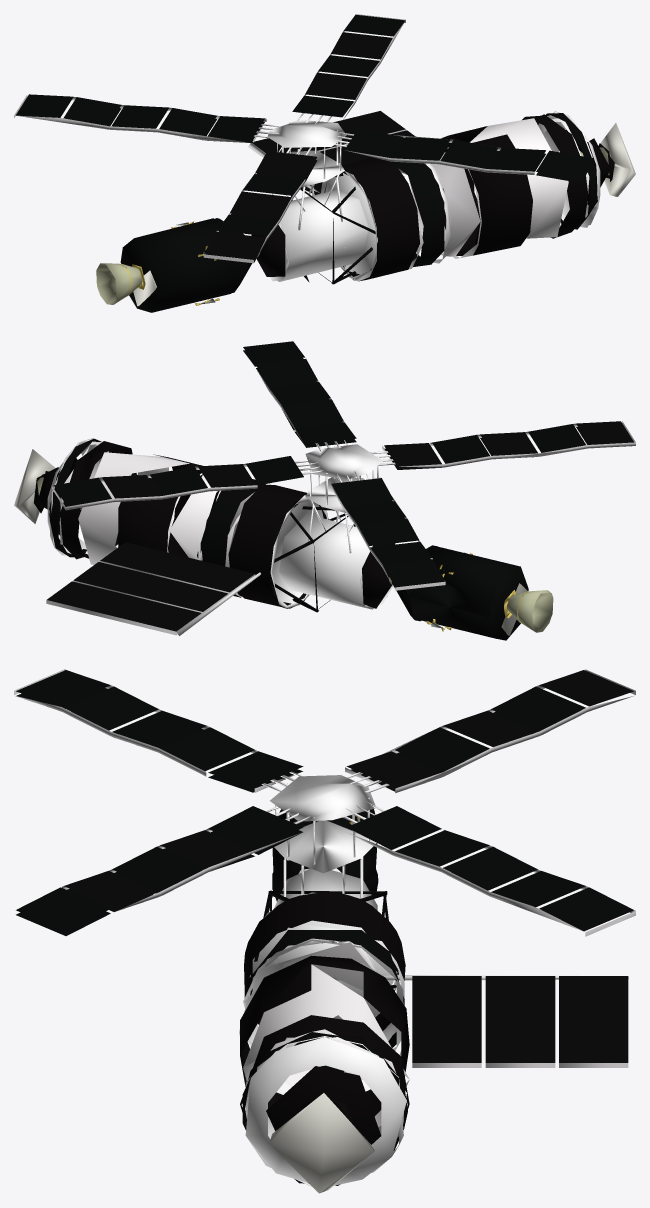
The model's file is space-skylab.glb.
3 views of the same model, one above another, from view 1: azimuth 30°, elevation 25°; view 2: azimuth 150°, elevation 25°; view 3: azimuth 270°, elevation 25° (orthographic). The views are drawn at different scales.
Parts seen in each view (by area): view 1: polySurfac; view 2: polySurfac; view 3: polySurfac.
Part boxes in pixels (x1=…): polySurfac: x1=14, y1=14, x2=635, y2=312; polySurfac: x1=14, y1=341, x2=635, y2=640; polySurfac: x1=14, y1=669, x2=635, y2=1193.
Bounding box in the file's own units: 38.74 × 11.78 × 29.85.
Materials: 4 (4 with a texture image).
